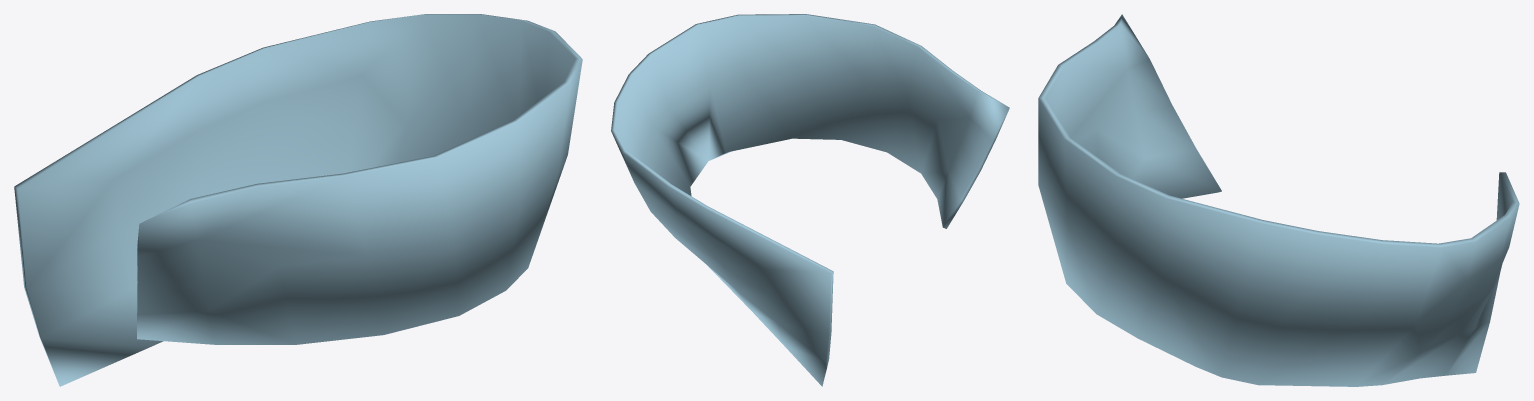
File: articulacoes-annular-ligament-of-radius-l.glb
The picture shows the model from 3 angles, left to right: view 1: azimuth 30°, elevation 25°; view 2: azimuth 150°, elevation 25°; view 3: azimuth 270°, elevation 25°; orthographic projection. The views are drawn at different scales.
Visible parts, largest first — view 1: Annular ligament of radius.l; view 2: Annular ligament of radius.l; view 3: Annular ligament of radius.l.
Boxes of the visible parts, left/top/right/bottom form: Annular ligament of radius.l: left=14, top=14, right=582, bottom=386; Annular ligament of radius.l: left=611, top=14, right=1009, bottom=386; Annular ligament of radius.l: left=1038, top=14, right=1519, bottom=386.
Bounding box in the file's own units: 0.0246 × 0.0174 × 0.0219.
